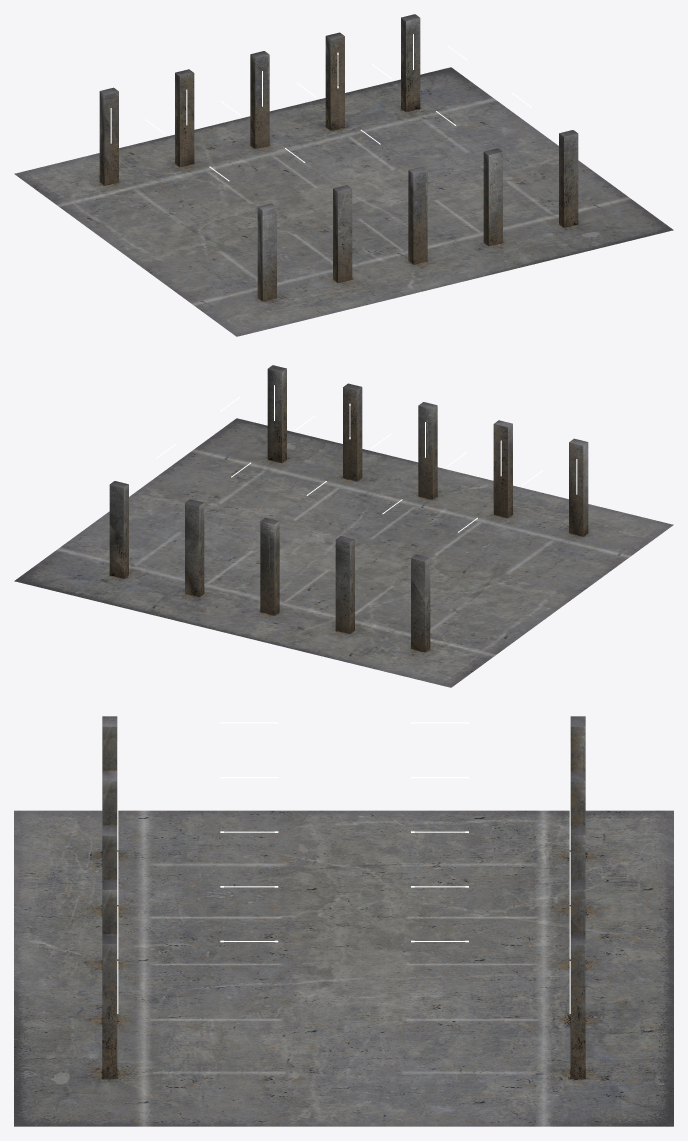
Rendered from parking-garage.glb.
The picture shows the model from 3 angles, top to bottom: view 1: azimuth 30°, elevation 25°; view 2: azimuth 150°, elevation 25°; view 3: azimuth 270°, elevation 25°; orthographic projection. The views are drawn at different scales.
Visible parts, largest first — view 1: Object_2, Object_3; view 2: Object_2, Object_3; view 3: Object_2, Object_3.
Boxes of the visible parts, left/top/right/bottom form: Object_2: left=14, top=14, right=673, bottom=336; Object_3: left=110, top=34, right=531, bottom=181; Object_2: left=14, top=365, right=673, bottom=687; Object_3: left=155, top=385, right=577, bottom=532; Object_2: left=14, top=716, right=673, bottom=1126; Object_3: left=117, top=722, right=570, bottom=1013.
Bounding box in the file's own units: 19.51 × 3.88 × 17.22.
Materials: 2 (1 with a texture image).
